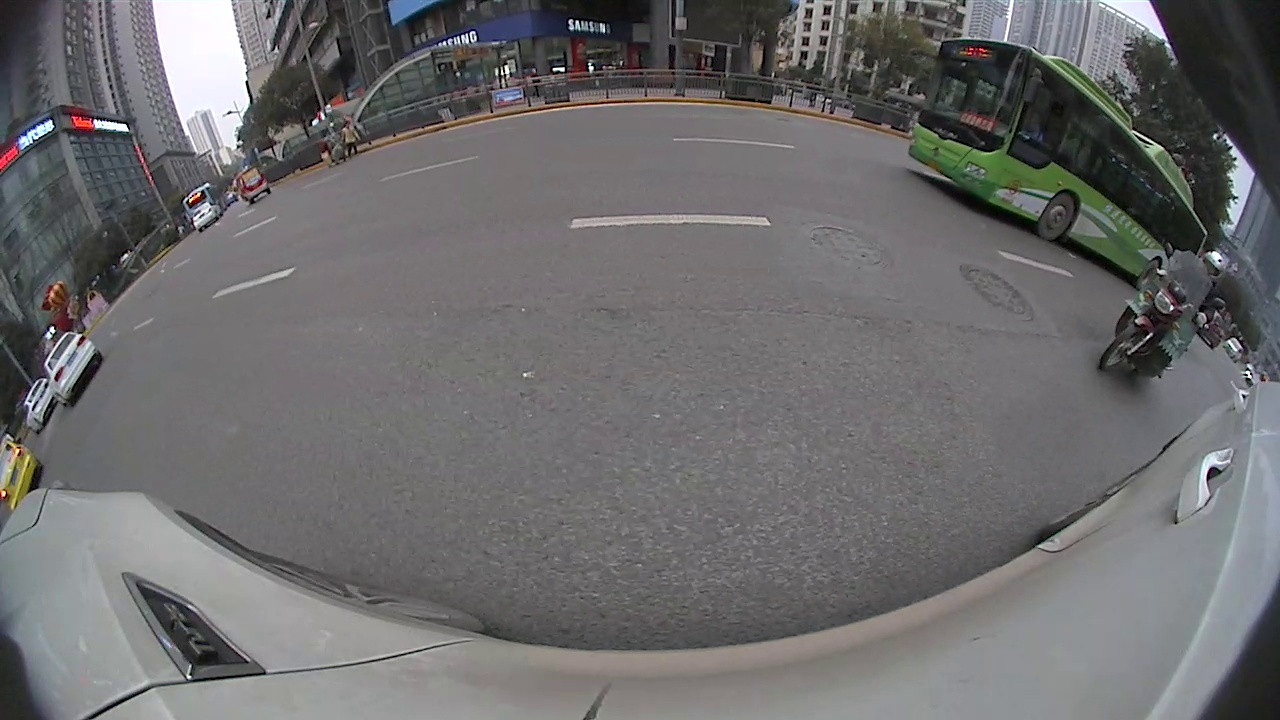bus: (907, 37, 1208, 291), (183, 184, 225, 225)
car: (44, 332, 103, 404), (1, 436, 42, 511), (25, 380, 53, 427), (192, 204, 219, 229)
front: (1097, 317, 1156, 376), (1033, 192, 1076, 243)
person: (343, 121, 360, 155)
rider: (1102, 246, 1230, 374), (236, 168, 272, 202)
